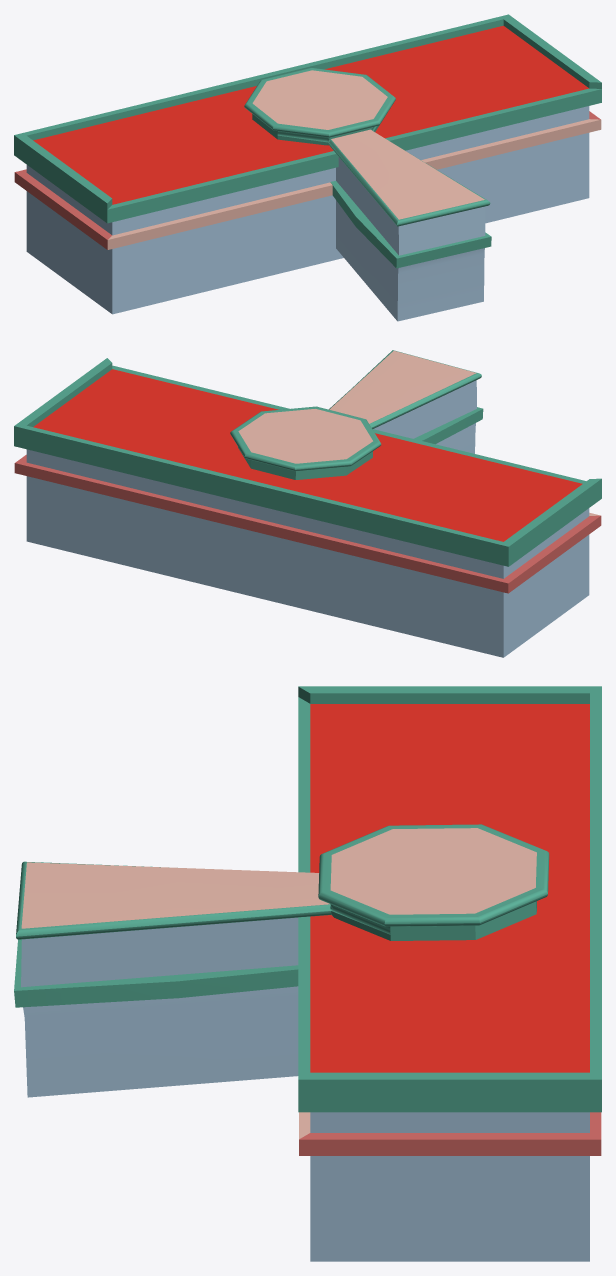
Rendered from baga33.fbx.
3 views of the same model, one above another, from view 1: azimuth 30°, elevation 25°; view 2: azimuth 150°, elevation 25°; view 3: azimuth 270°, elevation 25° (orthographic). The views are drawn at different scales.
Visible parts, largest first — view 1: pCube9, pCylinder1; view 2: pCube9, pCylinder1; view 3: pCube9, pCylinder1.
Part boxes in pixels (box(x1,y1,x2,y2)): pCube9: box(14, 14, 601, 314); pCylinder1: box(244, 67, 491, 321); pCube9: box(14, 358, 601, 657); pCylinder1: box(230, 350, 483, 479); pCube9: box(298, 686, 601, 1261); pCylinder1: box(14, 824, 549, 1097).
Bounding box in the file's own units: 17.44 × 4.31 × 11.02.
